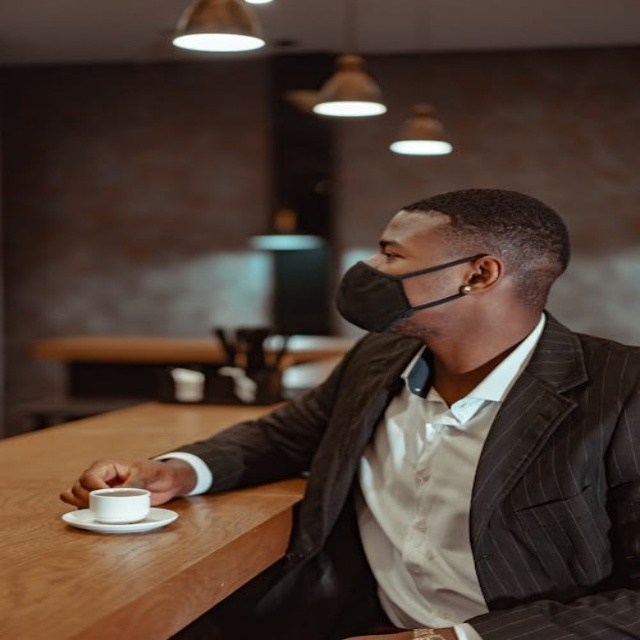Mascara: (338, 255, 485, 335)
Sin_gafas: (369, 236, 453, 265)
Sin_guantes: (65, 454, 189, 507)
